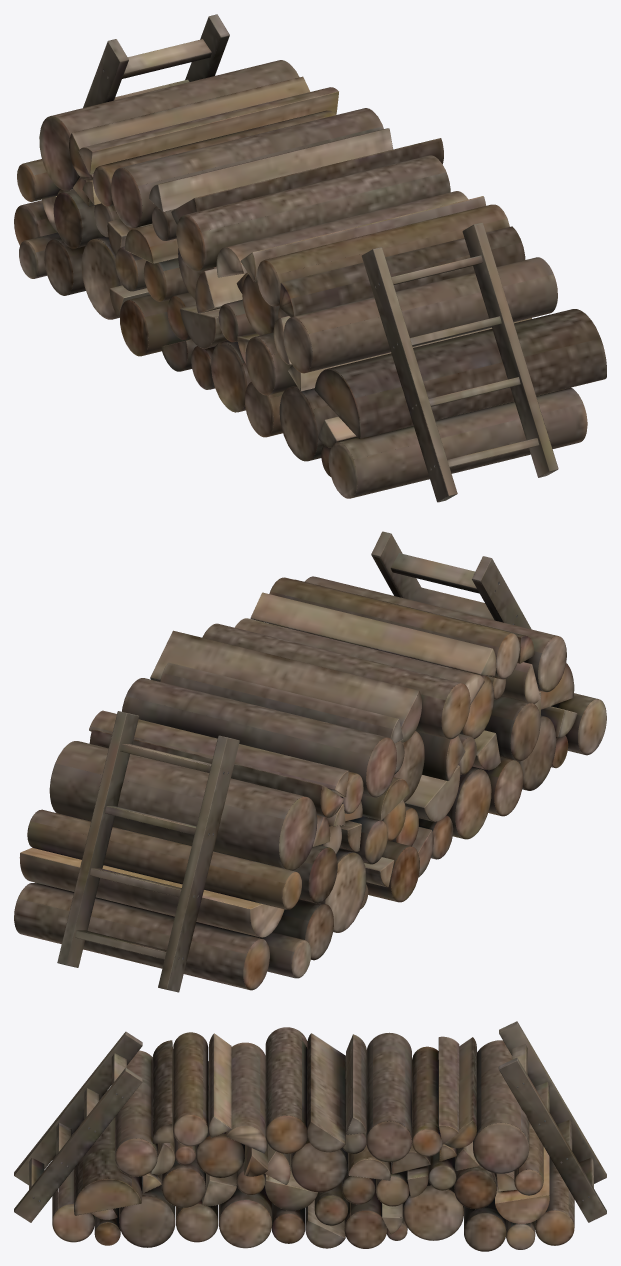
Rendered from obj_firewood_hp.glb.
3 renders of one model, top to bottom at view 1: azimuth 30°, elevation 25°; view 2: azimuth 150°, elevation 25°; view 3: azimuth 270°, elevation 25°, orthographic. The views are drawn at different scales.
Parts seen in each view (by area): view 1: Object_2; view 2: Object_2; view 3: Object_2.
Part boxes in pixels (left/top/right/bottom): Object_2: left=14, top=14, right=606, bottom=502; Object_2: left=14, top=531, right=606, bottom=992; Object_2: left=14, top=1021, right=606, bottom=1251.
Bounding box in the file's own units: 0.3584 × 0.2722 × 0.9.
Materials: 1 (1 with a texture image).
